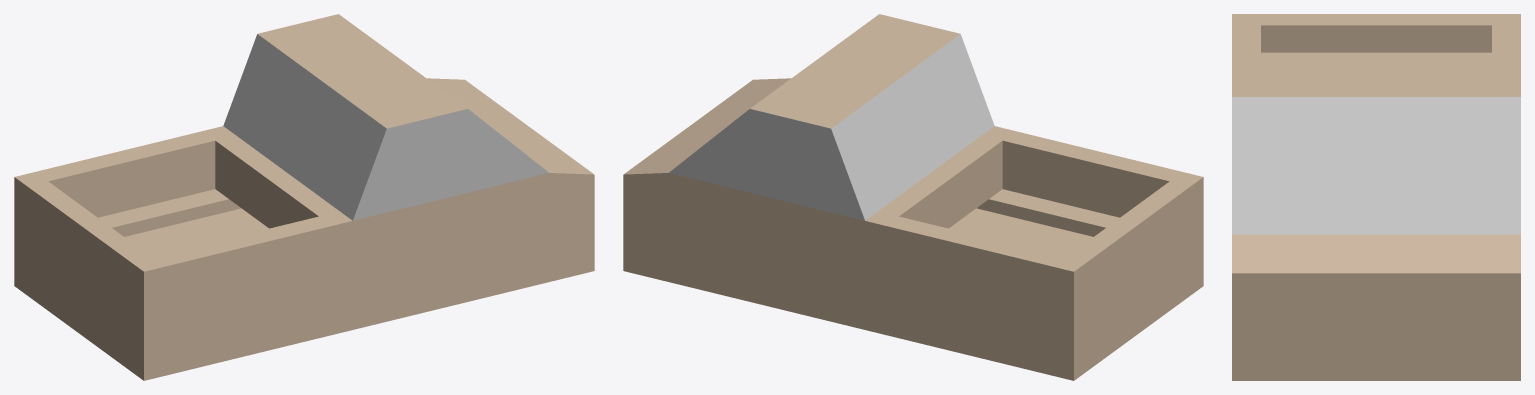
Rendered from bobcat1.obj.
3 views of the same model, side by side, from view 1: azimuth 30°, elevation 25°; view 2: azimuth 150°, elevation 25°; view 3: azimuth 270°, elevation 25° (orthographic). The views are drawn at different scales.
Visible parts, largest first — view 1: Cube1_default, Cube1_Cube1_auv; view 2: Cube1_default, Cube1_Cube1_auv; view 3: Cube1_default, Cube1_Cube1_auv.
Boxes of the visible parts, <box> form: Cube1_default: <box>14,14,594,380</box>; Cube1_Cube1_auv: <box>223,34,548,220</box>; Cube1_default: <box>623,14,1203,380</box>; Cube1_Cube1_auv: <box>669,34,994,220</box>; Cube1_default: <box>1232,14,1520,380</box>; Cube1_Cube1_auv: <box>1232,97,1520,234</box>.
Size of the model in its own units: 4.02 by 1.64 by 2.
